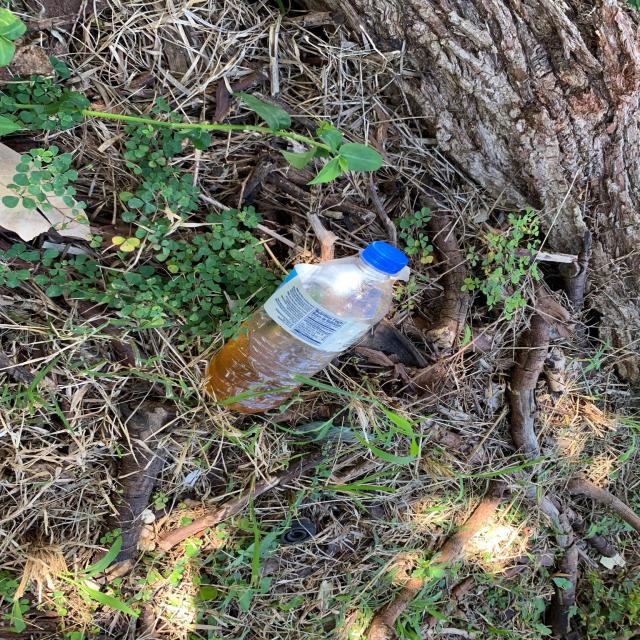litter: (204, 242, 407, 414)
